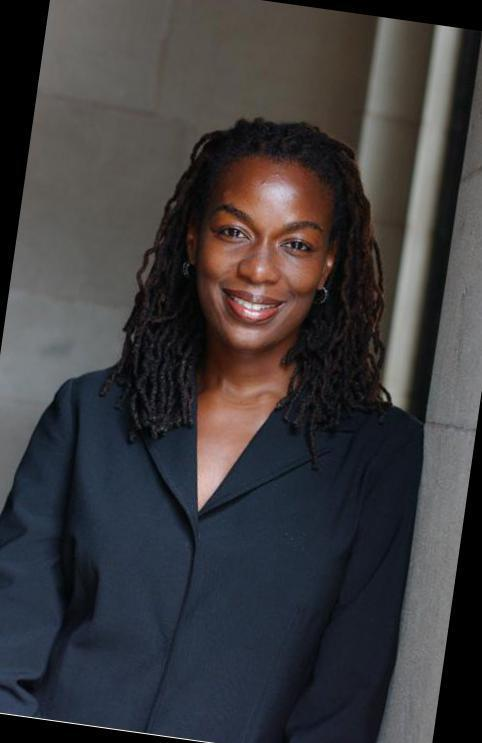Sober: (207, 164, 323, 333)
